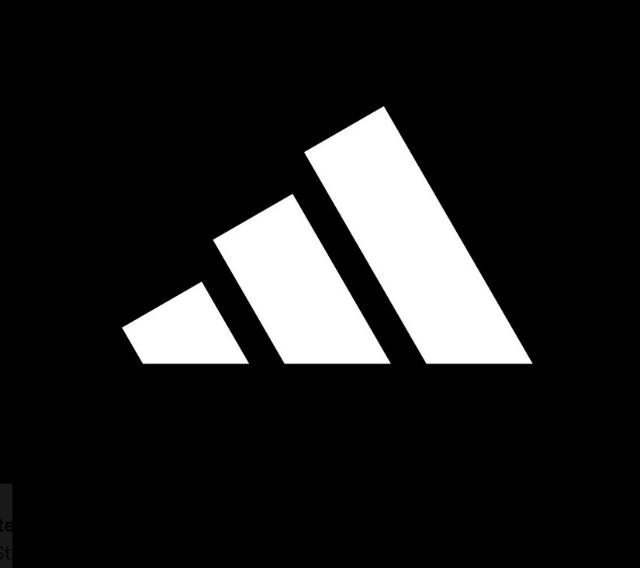Adidas: (114, 95, 544, 397)
